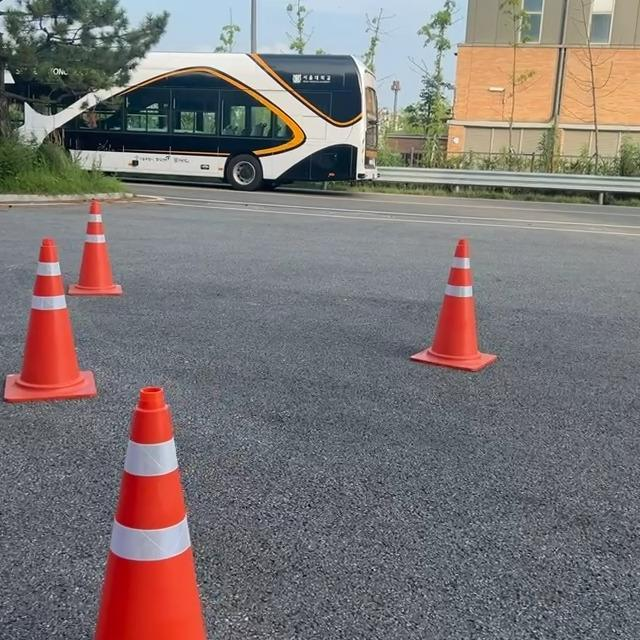fallen_object: (77, 373, 264, 640), (362, 223, 530, 410), (0, 216, 103, 406), (73, 175, 154, 347)
